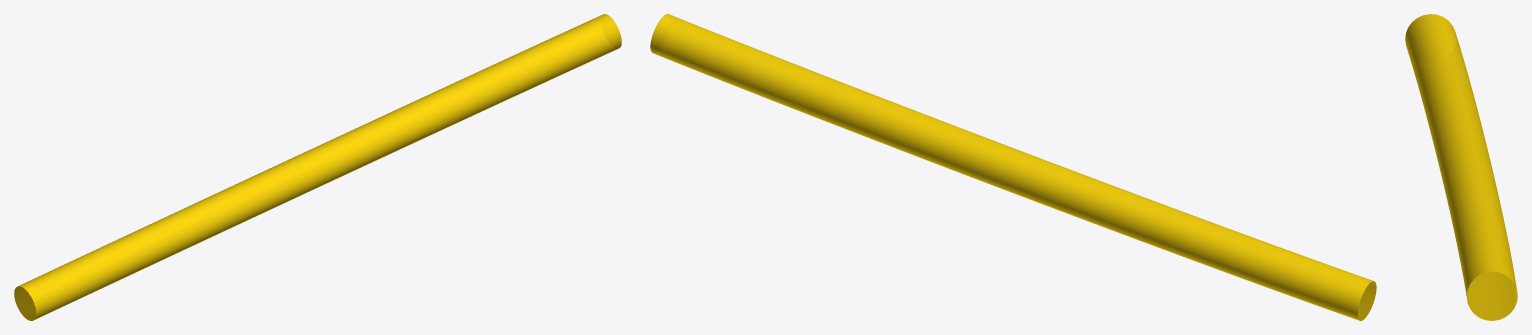
File: Event_421115418_track_161.fbx
The picture shows the model from 3 angles, left to right: view 1: azimuth 30°, elevation 25°; view 2: azimuth 150°, elevation 25°; view 3: azimuth 270°, elevation 25°; orthographic projection. The views are drawn at different scales.
Visible parts, largest first — view 1: Model; view 2: Model; view 3: Model.
Boxes of the visible parts, x1,y1,x2,y2 form: Model: (14,14,621,320); Model: (650,14,1376,320); Model: (1405,14,1517,320).
Bounding box in the file's own units: 0.7519 × 0.1647 × 0.088.
